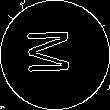M_E: (29, 31, 81, 79)
